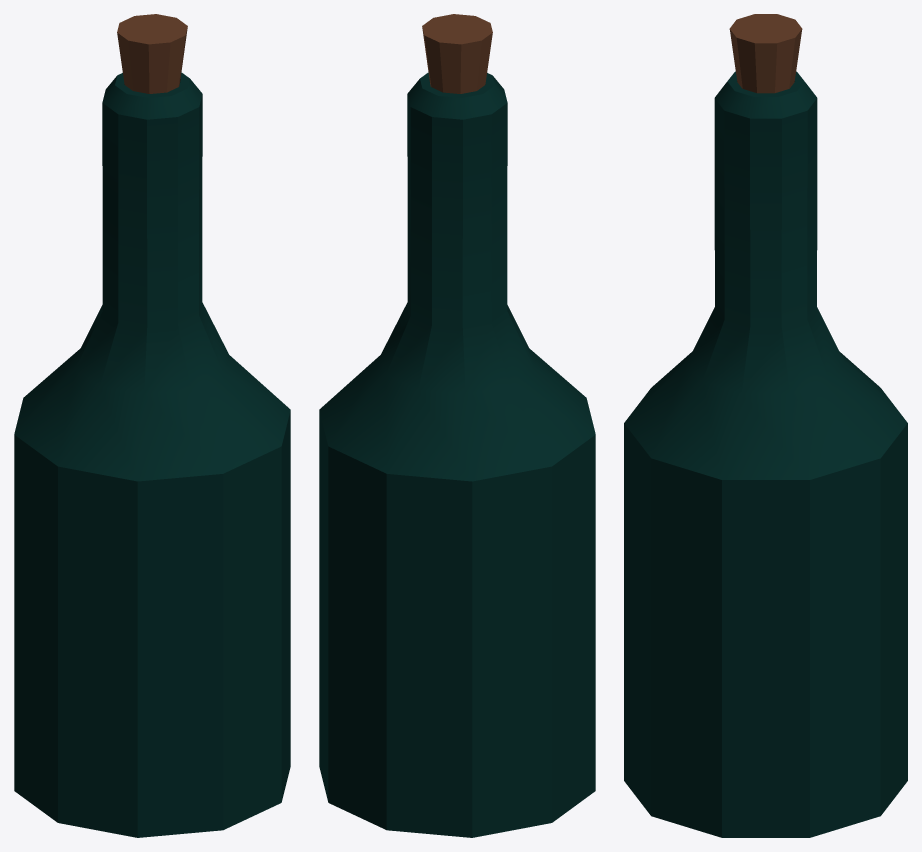
The model's file is Bottiglia 1.fbx.
3 views of the same model, side by side, from view 1: azimuth 30°, elevation 25°; view 2: azimuth 150°, elevation 25°; view 3: azimuth 270°, elevation 25° (orthographic).
Parts seen in each view (by area): view 1: Bottle 2.001; view 2: Bottle 2.001; view 3: Bottle 2.001.
Part boxes in pixels (bbox=[...]): Bottle 2.001: bbox=[14, 14, 290, 837]; Bottle 2.001: bbox=[319, 14, 595, 837]; Bottle 2.001: bbox=[624, 14, 907, 837].
Bounding box in the file's own units: 30.1 × 92.56 × 31.65.
